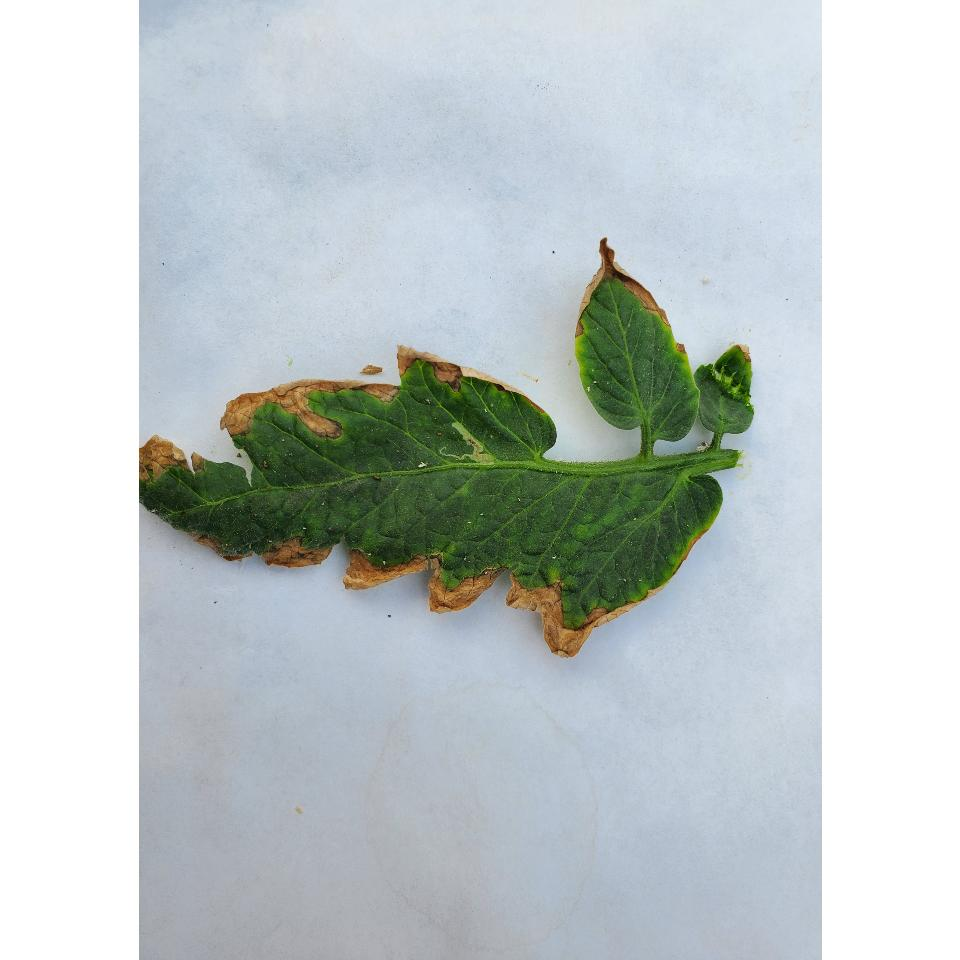tomato_bacterial_blight: (140, 240, 796, 664)
